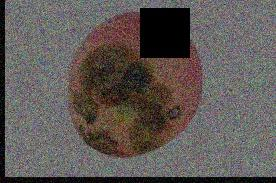rotten apple: (70, 45, 181, 162)
